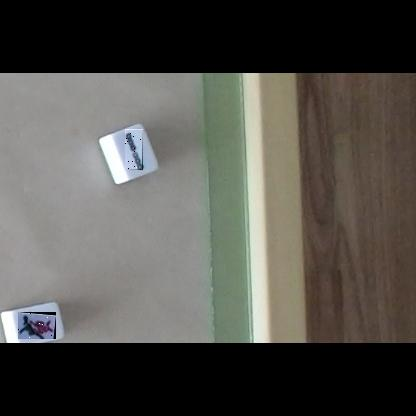1s: (18, 312, 56, 339)
2s: (125, 129, 143, 170)
